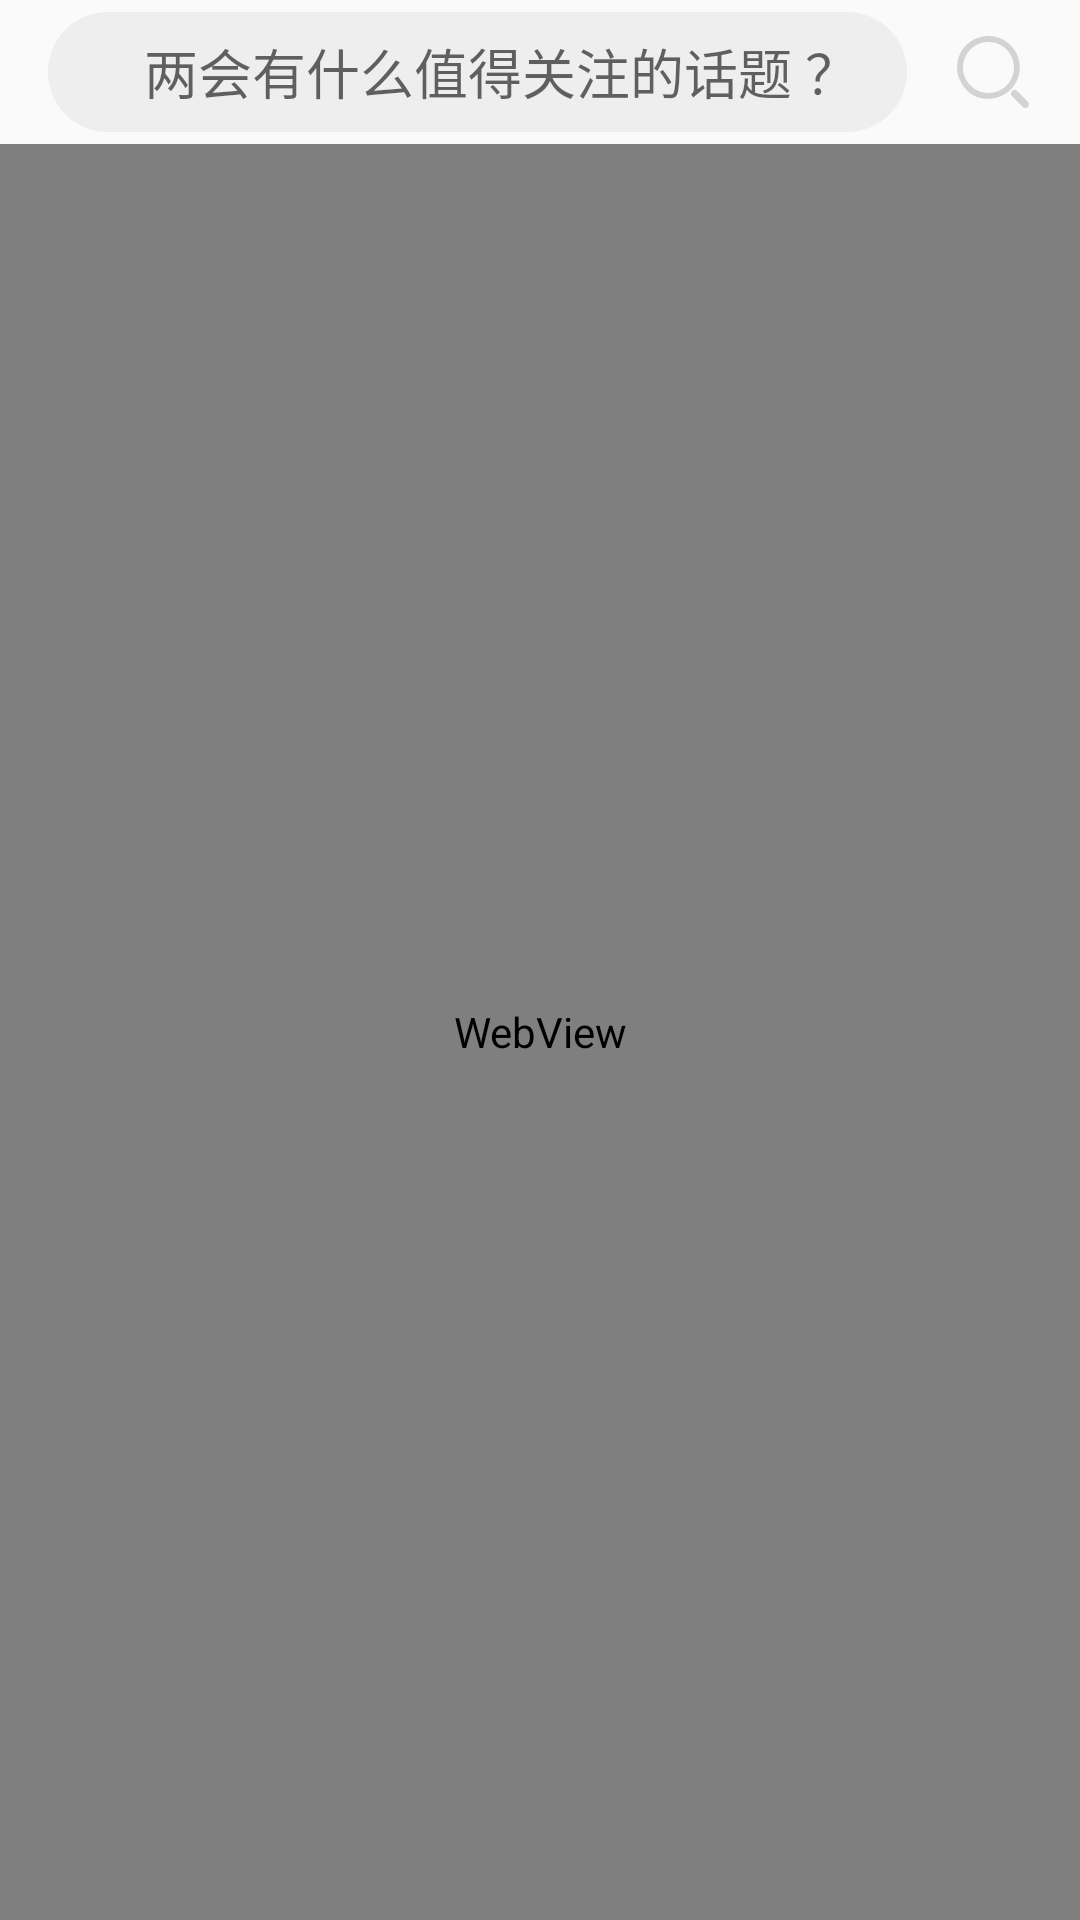

Named icons in this screenshot (1080×1920) and their centers, (x,y):
search: (993,72)
